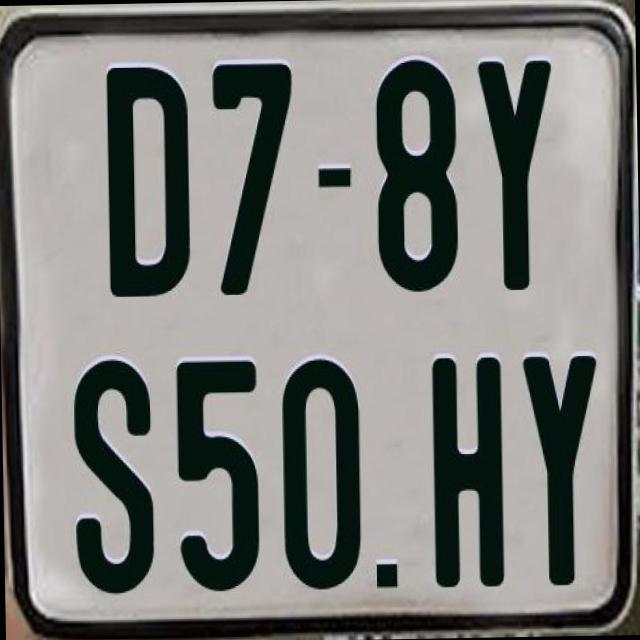0: (276, 355, 364, 589)
5: (171, 357, 258, 596)
7: (212, 59, 300, 300)
8: (373, 54, 465, 295)
D: (105, 63, 193, 303)
H: (428, 352, 504, 592)
S: (68, 354, 158, 592)
Y: (472, 56, 556, 296), (520, 352, 600, 588)
